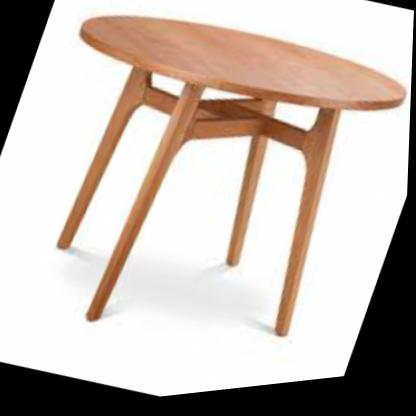Table: (0, 0, 416, 404)
